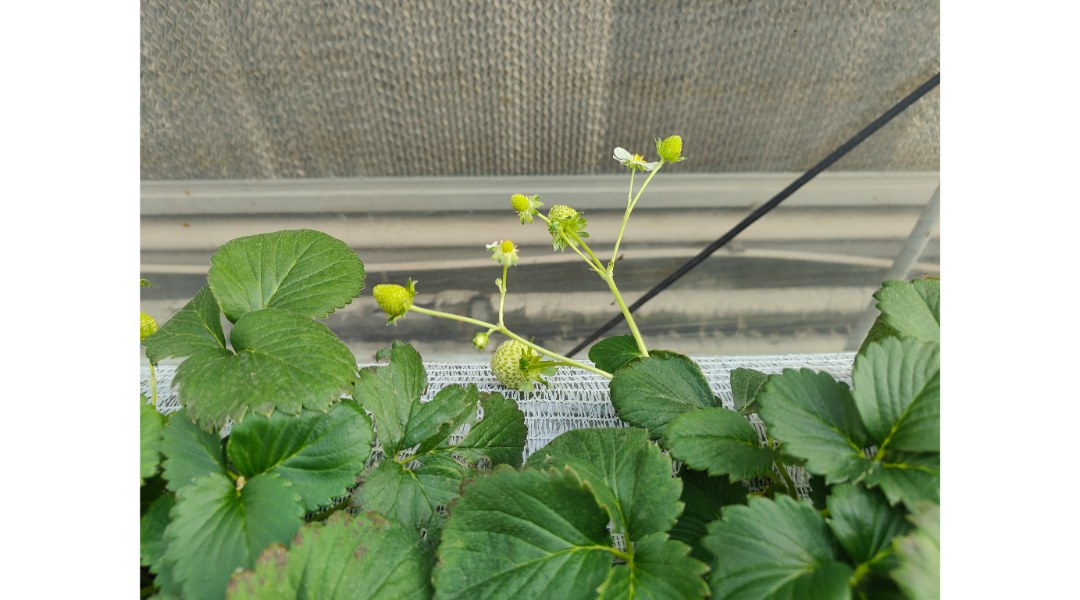berry: (485, 339, 543, 391), (371, 279, 420, 322), (547, 204, 587, 244), (655, 133, 688, 162), (497, 234, 518, 261), (509, 191, 532, 213)
flower: (608, 136, 659, 174)
strain: (507, 328, 614, 376), (605, 282, 647, 354), (413, 305, 490, 325), (611, 204, 631, 265), (495, 267, 508, 325), (638, 176, 656, 198)
